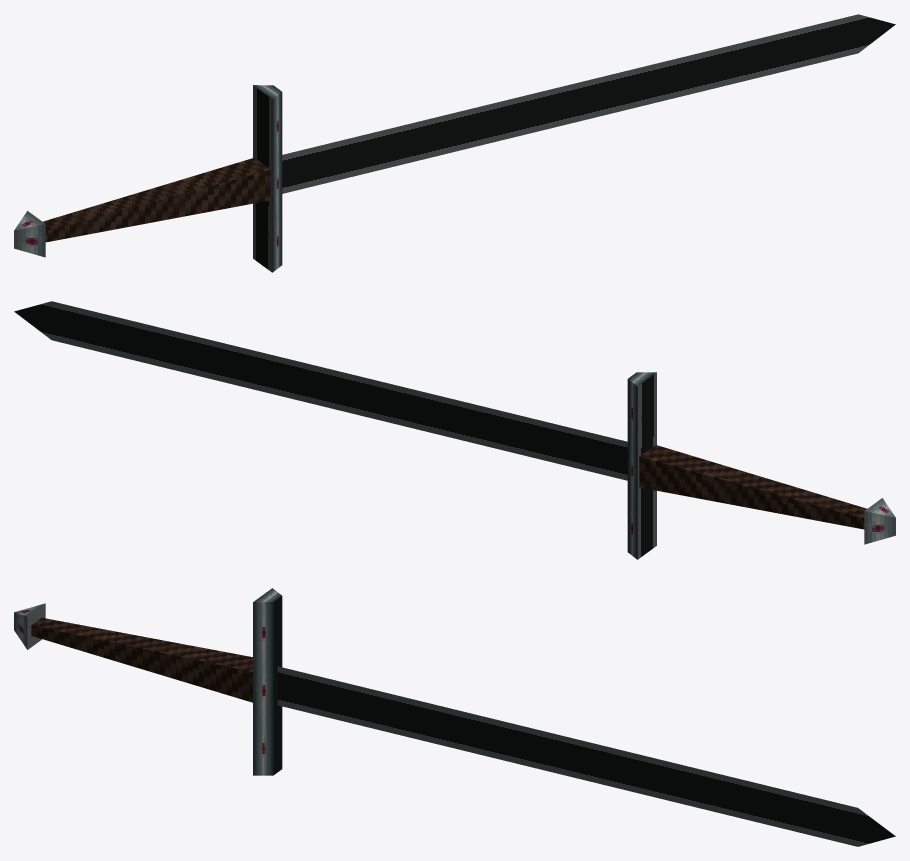
3 views of the same model, one above another, from view 1: azimuth 30°, elevation 25°; view 2: azimuth 150°, elevation 25°; view 3: azimuth 330°, elevation 25° (orthographic).
Visible parts, largest first — view 1: it53; view 2: it53; view 3: it53.
Boxes of the visible parts, bbox=[...] form: it53: bbox=[14, 14, 895, 272]; it53: bbox=[14, 301, 895, 559]; it53: bbox=[14, 588, 895, 846].
Bounding box in the file's own units: 4.29 × 0.8066 × 0.1641.
4 materials, 4 textured.
